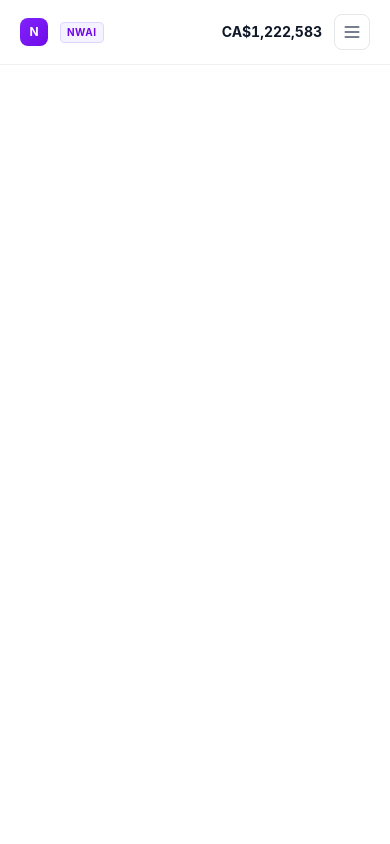
Test: MvpTopNav phone header and drawer › puts Net Worth first in the net-worth group and highlights only /account/net-worth
Click the button named "Menu" at (352, 32), box top-left (334, 14), bottom-right (370, 50)
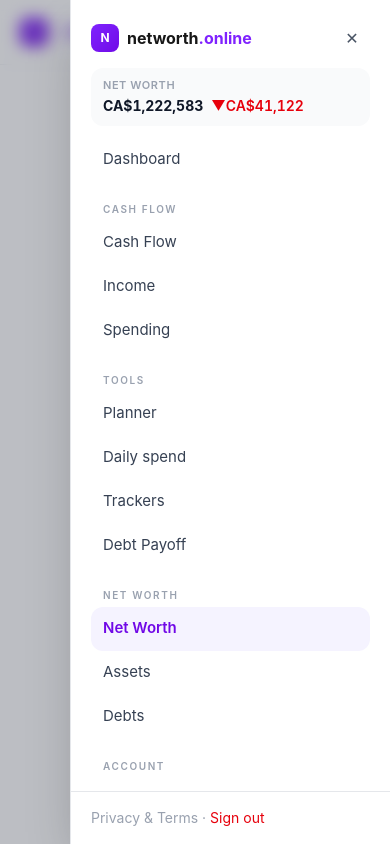
Result: the link "Net Worth" is shown at top-left (91, 607), bottom-right (370, 651)
